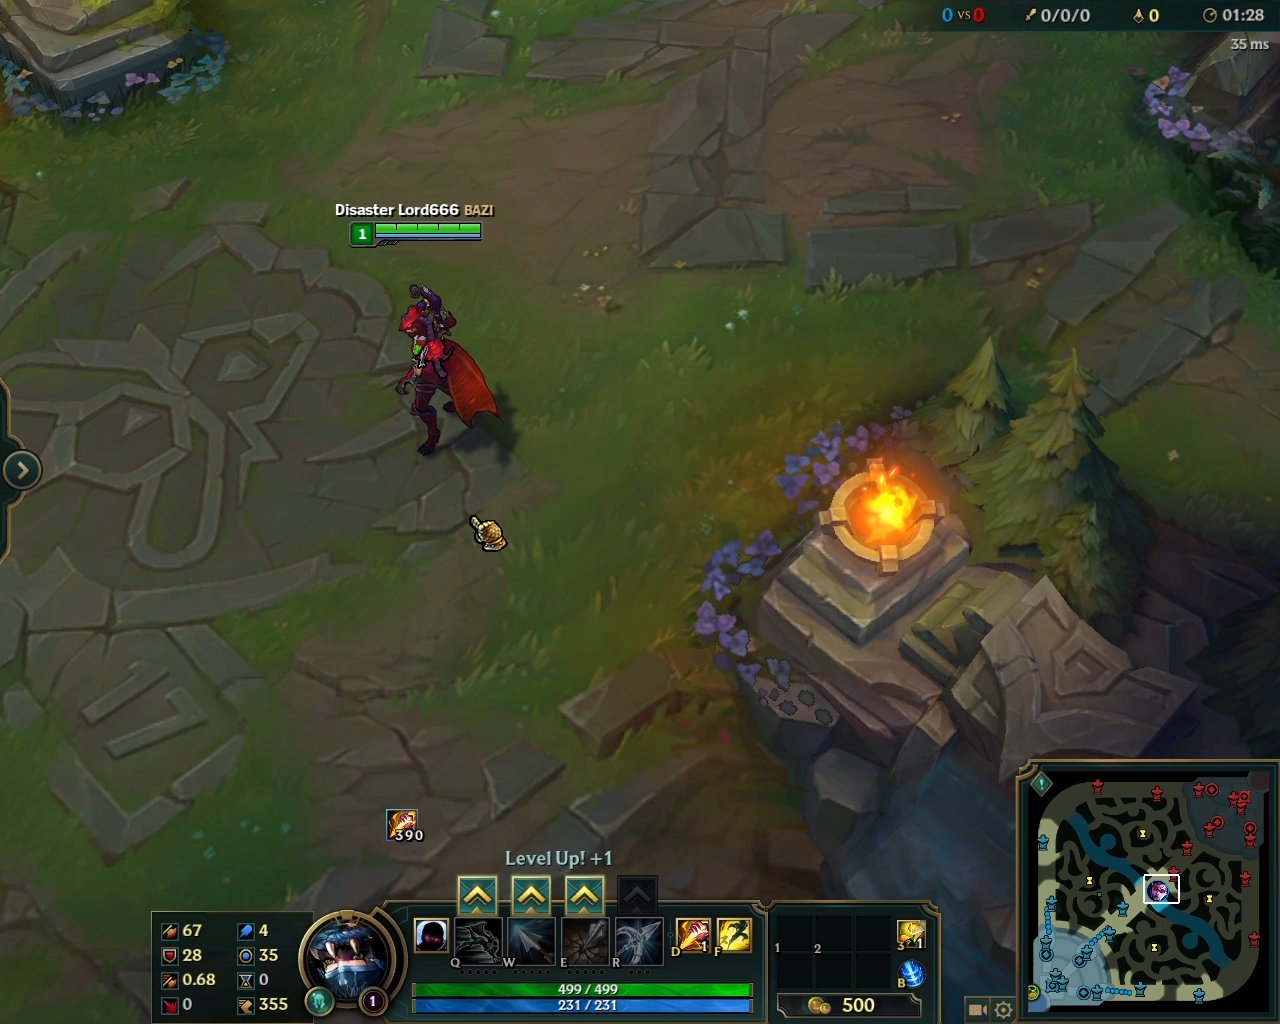Vayne: (386, 276, 511, 460)
